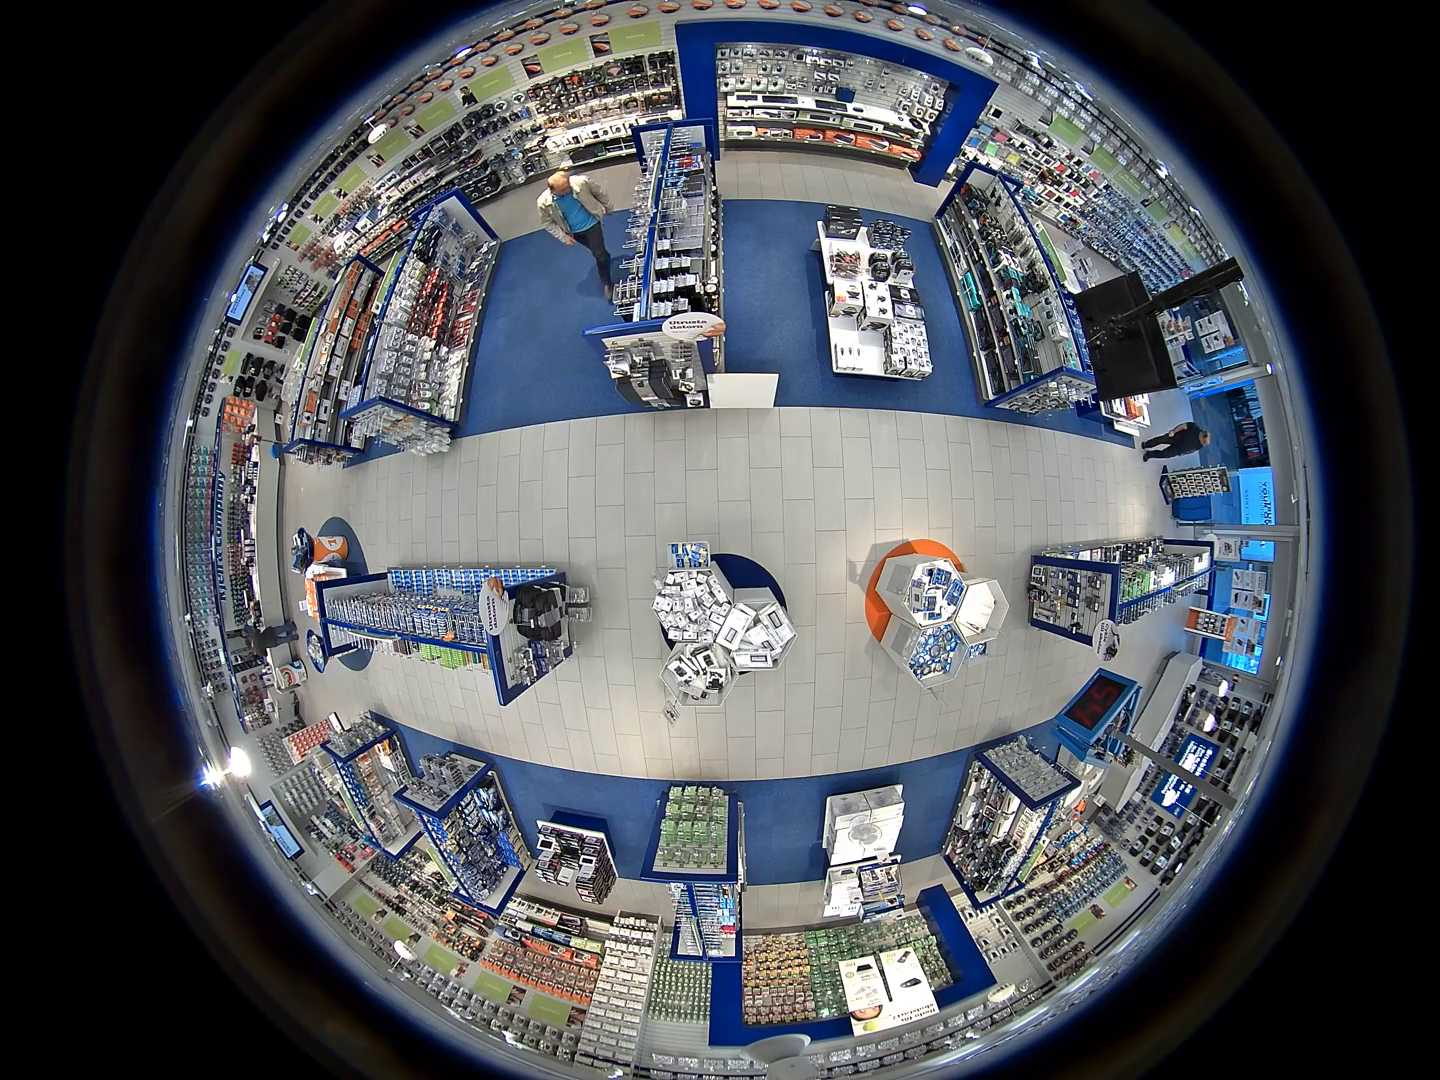person: (536, 171, 616, 302), (1141, 420, 1211, 462), (245, 620, 300, 657), (240, 623, 261, 648)
